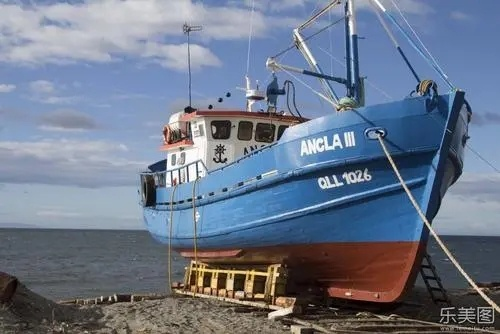otherboat: (141, 50, 476, 305)
